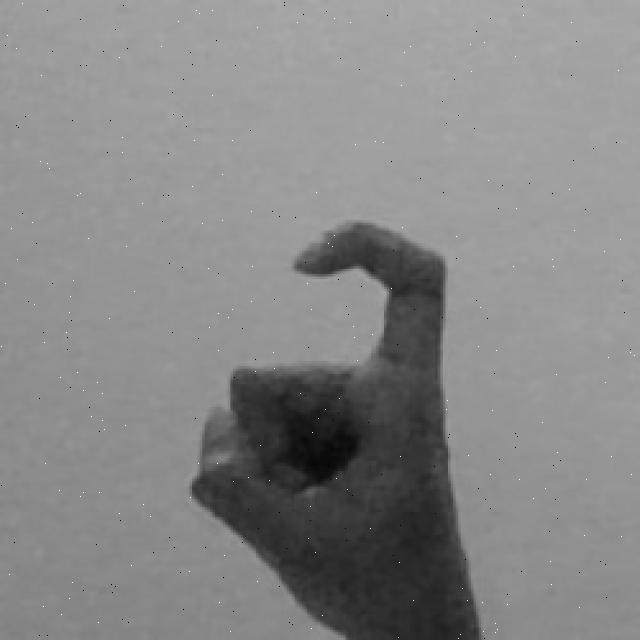X: (182, 215, 486, 640)
